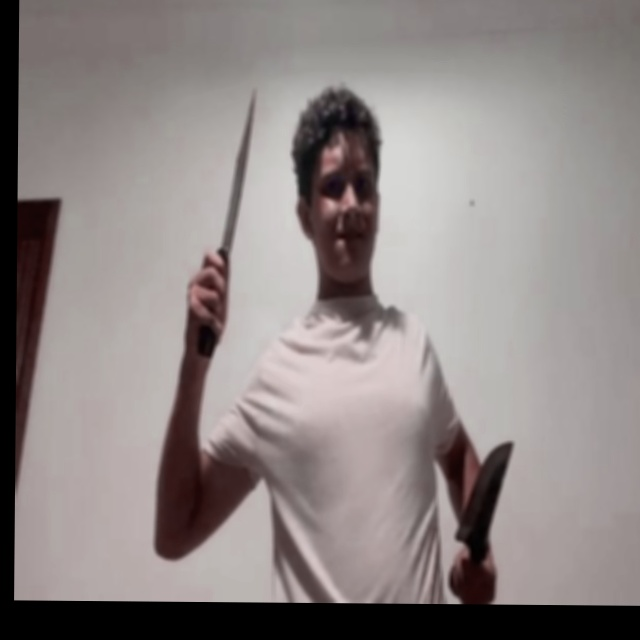Sharp-Object: (456, 439, 513, 540), (224, 87, 257, 254)
